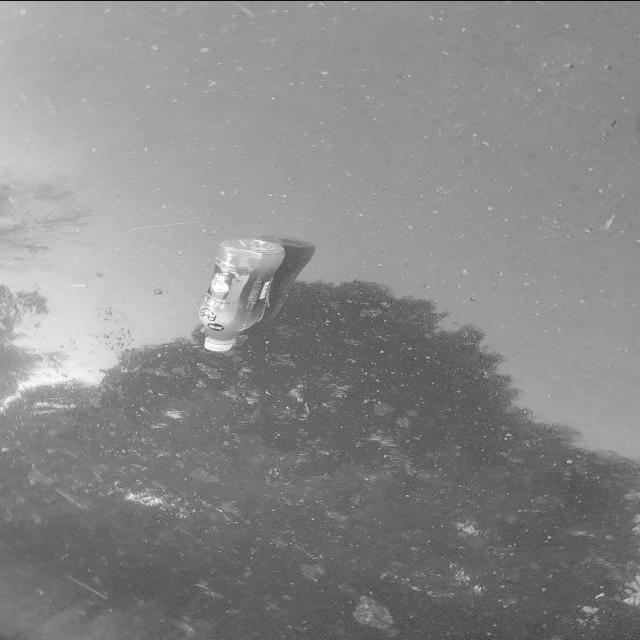bottle: (168, 219, 308, 363)
